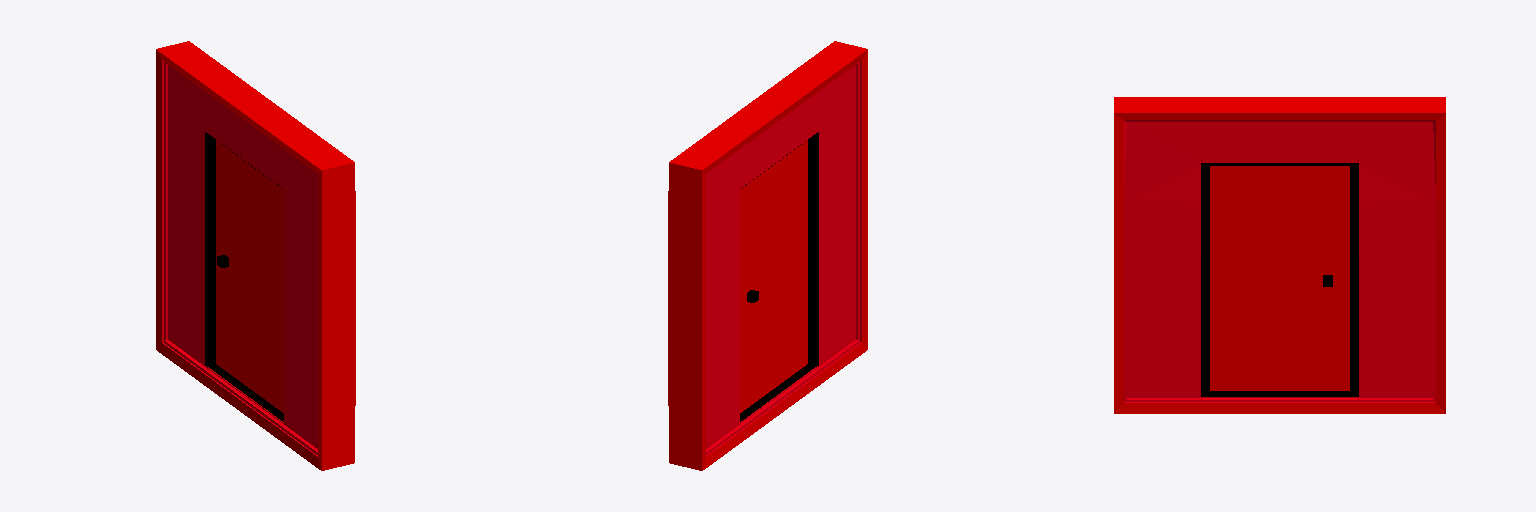
The model's file is basicDoor.obj.
3 views of the same model, side by side, from view 1: azimuth 30°, elevation 25°; view 2: azimuth 150°, elevation 25°; view 3: azimuth 270°, elevation 25° (orthographic).
Visible parts, largest first — view 1: Wall1.002_Cube.020; view 2: Wall1.002_Cube.020; view 3: Wall1.002_Cube.020.
Boxes of the visible parts, x1=… form: Wall1.002_Cube.020: x1=156, y1=41, x2=355, y2=470; Wall1.002_Cube.020: x1=668, y1=41, x2=867, y2=470; Wall1.002_Cube.020: x1=1114, y1=97, x2=1445, y2=413.
Size of the model in its own units: 0.1275 by 1.06 by 1.06.